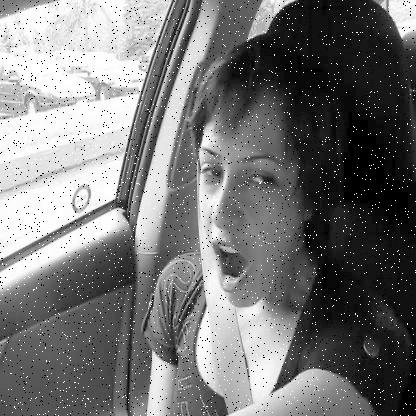seatbelt: (168, 16, 381, 416)
